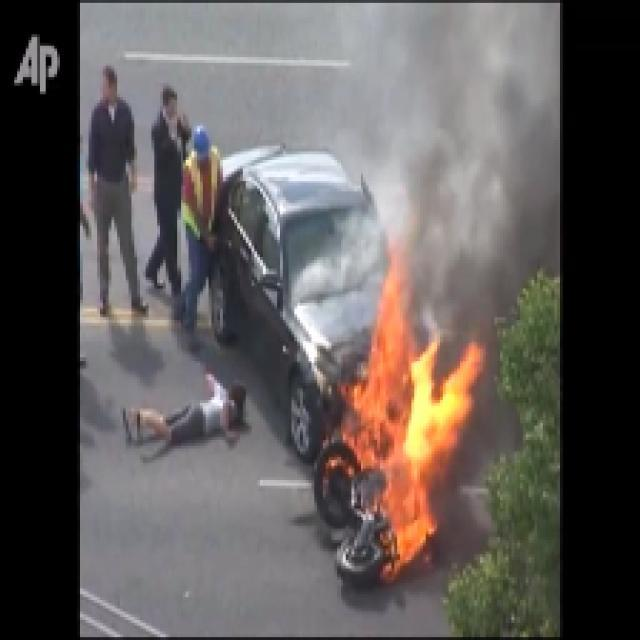Fire: (348, 346, 452, 560)
Smoke: (414, 21, 556, 306)
